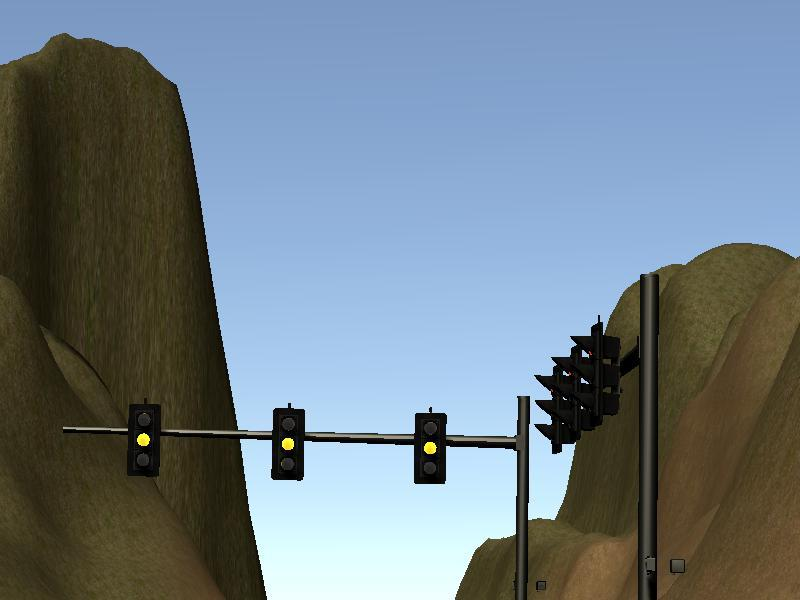Yellow: (125, 403, 160, 476), (272, 408, 306, 479), (415, 412, 446, 484)
